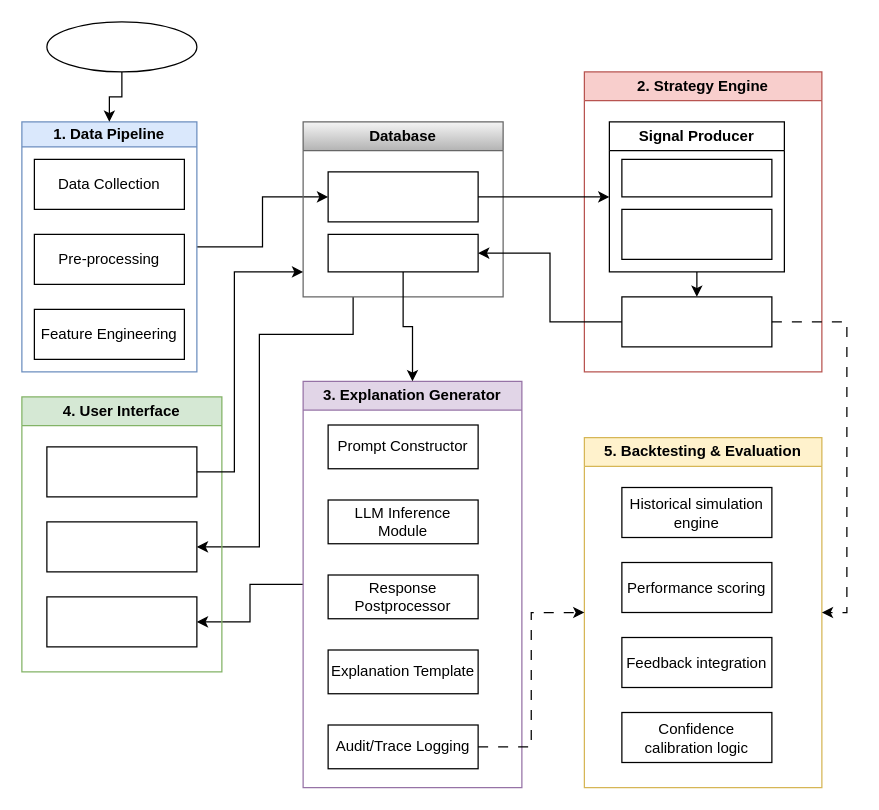
This 879x810 diagram has some shape labels left out. Here are the shapes that lost their labels. From the top down, the centre of each, then its label:
At [121,46]: "Data Source (yfinance)".
At [402,196]: "Structured Financial Data".
At [696,177]: "Rule based logic".
At [402,252]: "Trading Signals".
At [696,233]: "Machine Learning classifier".
At [696,321]: "Signal Orchestrator".
At [121,471]: "Input Selection".
At [121,546]: "Feature Visualisation".
At [121,621]: "Recommendation Summary".
